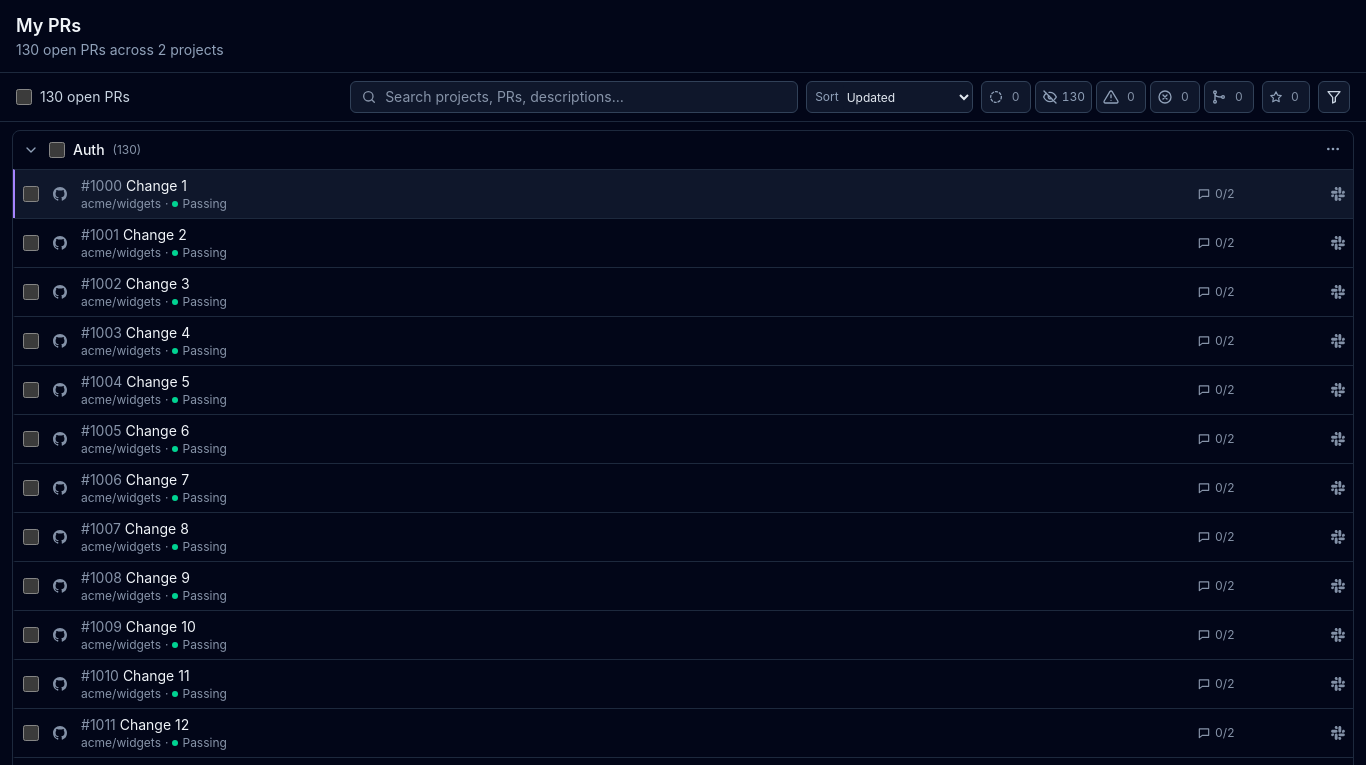
it: the section checkbox selects every PR in the section, loaded or not
Click the checkbox named "Select Auth": (57, 150) [49,142,65,158]
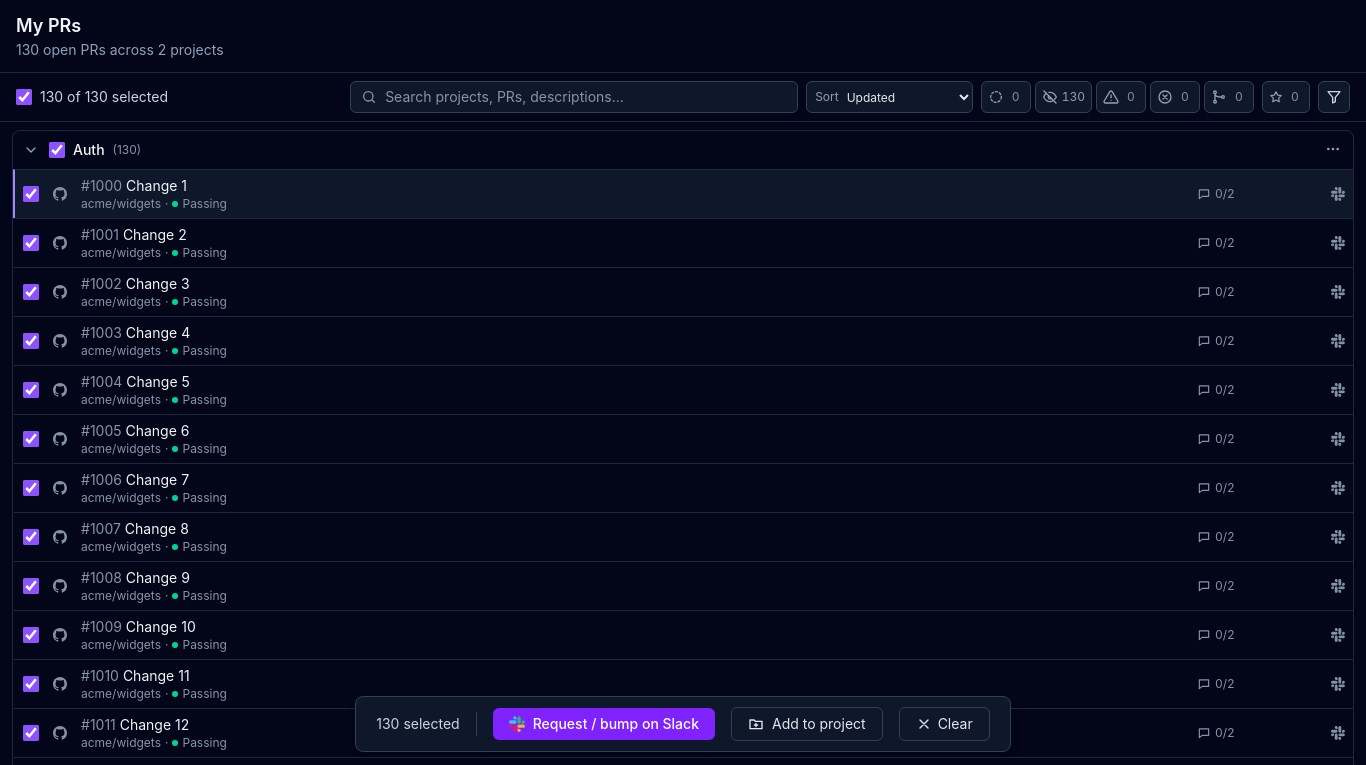
Check: the text "130 selected" is shown, box [376,714,460,734]
